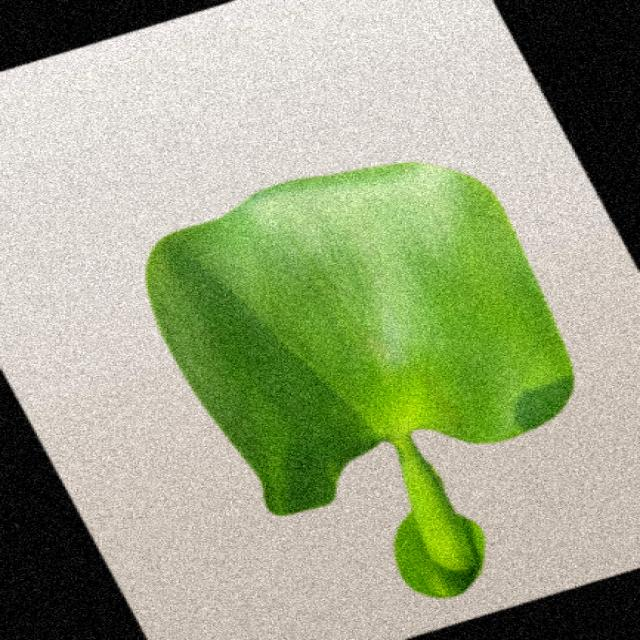daun sehat: (147, 164, 573, 598)
